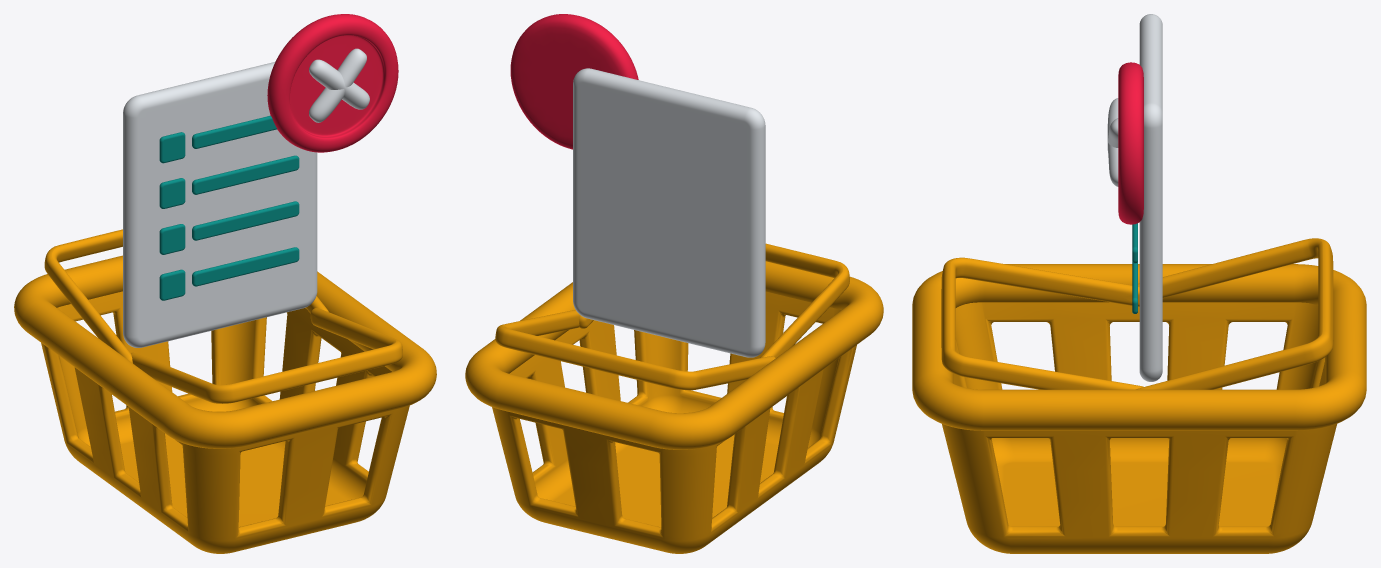
File: empty-shopping-list-3d-animated-icon-964569256409.glb
3 views of the same model, side by side, from view 1: azimuth 30°, elevation 25°; view 2: azimuth 150°, elevation 25°; view 3: azimuth 270°, elevation 25° (orthographic). The views are drawn at different scales.
Visible parts, largest first — view 1: Plane.001, PAPER, basket, X SIGN, Plane.004, HANDLE, HANDLE 2, X.001; view 2: PAPER, Plane.001, basket, X SIGN, HANDLE 2, HANDLE; view 3: Plane.001, basket, HANDLE, HANDLE 2, PAPER, X SIGN, X.001.
Boxes of the visible parts, x1=… form: Plane.001: x1=41, y1=291, x2=409, y2=553; PAPER: x1=123, y1=62, x2=317, y2=347; basket: x1=14, y1=255, x2=436, y2=448; X SIGN: x1=267, y1=14, x2=398, y2=152; Plane.004: x1=159, y1=115, x2=299, y2=300; HANDLE: x1=131, y1=308, x2=402, y2=403; HANDLE 2: x1=44, y1=229, x2=328, y2=363; X.001: x1=309, y1=48, x2=369, y2=122; PAPER: x1=573, y1=68, x2=765, y2=357; Plane.001: x1=492, y1=291, x2=856, y2=553; basket: x1=465, y1=261, x2=883, y2=449; X SIGN: x1=510, y1=14, x2=638, y2=149; HANDLE 2: x1=495, y1=310, x2=775, y2=390; HANDLE: x1=579, y1=243, x2=849, y2=357; Plane.001: x1=942, y1=302, x2=1336, y2=553; basket: x1=912, y1=264, x2=1366, y2=430; HANDLE: x1=941, y1=257, x2=1143, y2=389; HANDLE 2: x1=1136, y1=238, x2=1333, y2=389; PAPER: x1=1139, y1=14, x2=1162, y2=381; X SIGN: x1=1118, y1=62, x2=1143, y2=224; X.001: x1=1107, y1=98, x2=1118, y2=186.
Size of the model in its own units: 0.6904 by 0.993 by 0.8193.
